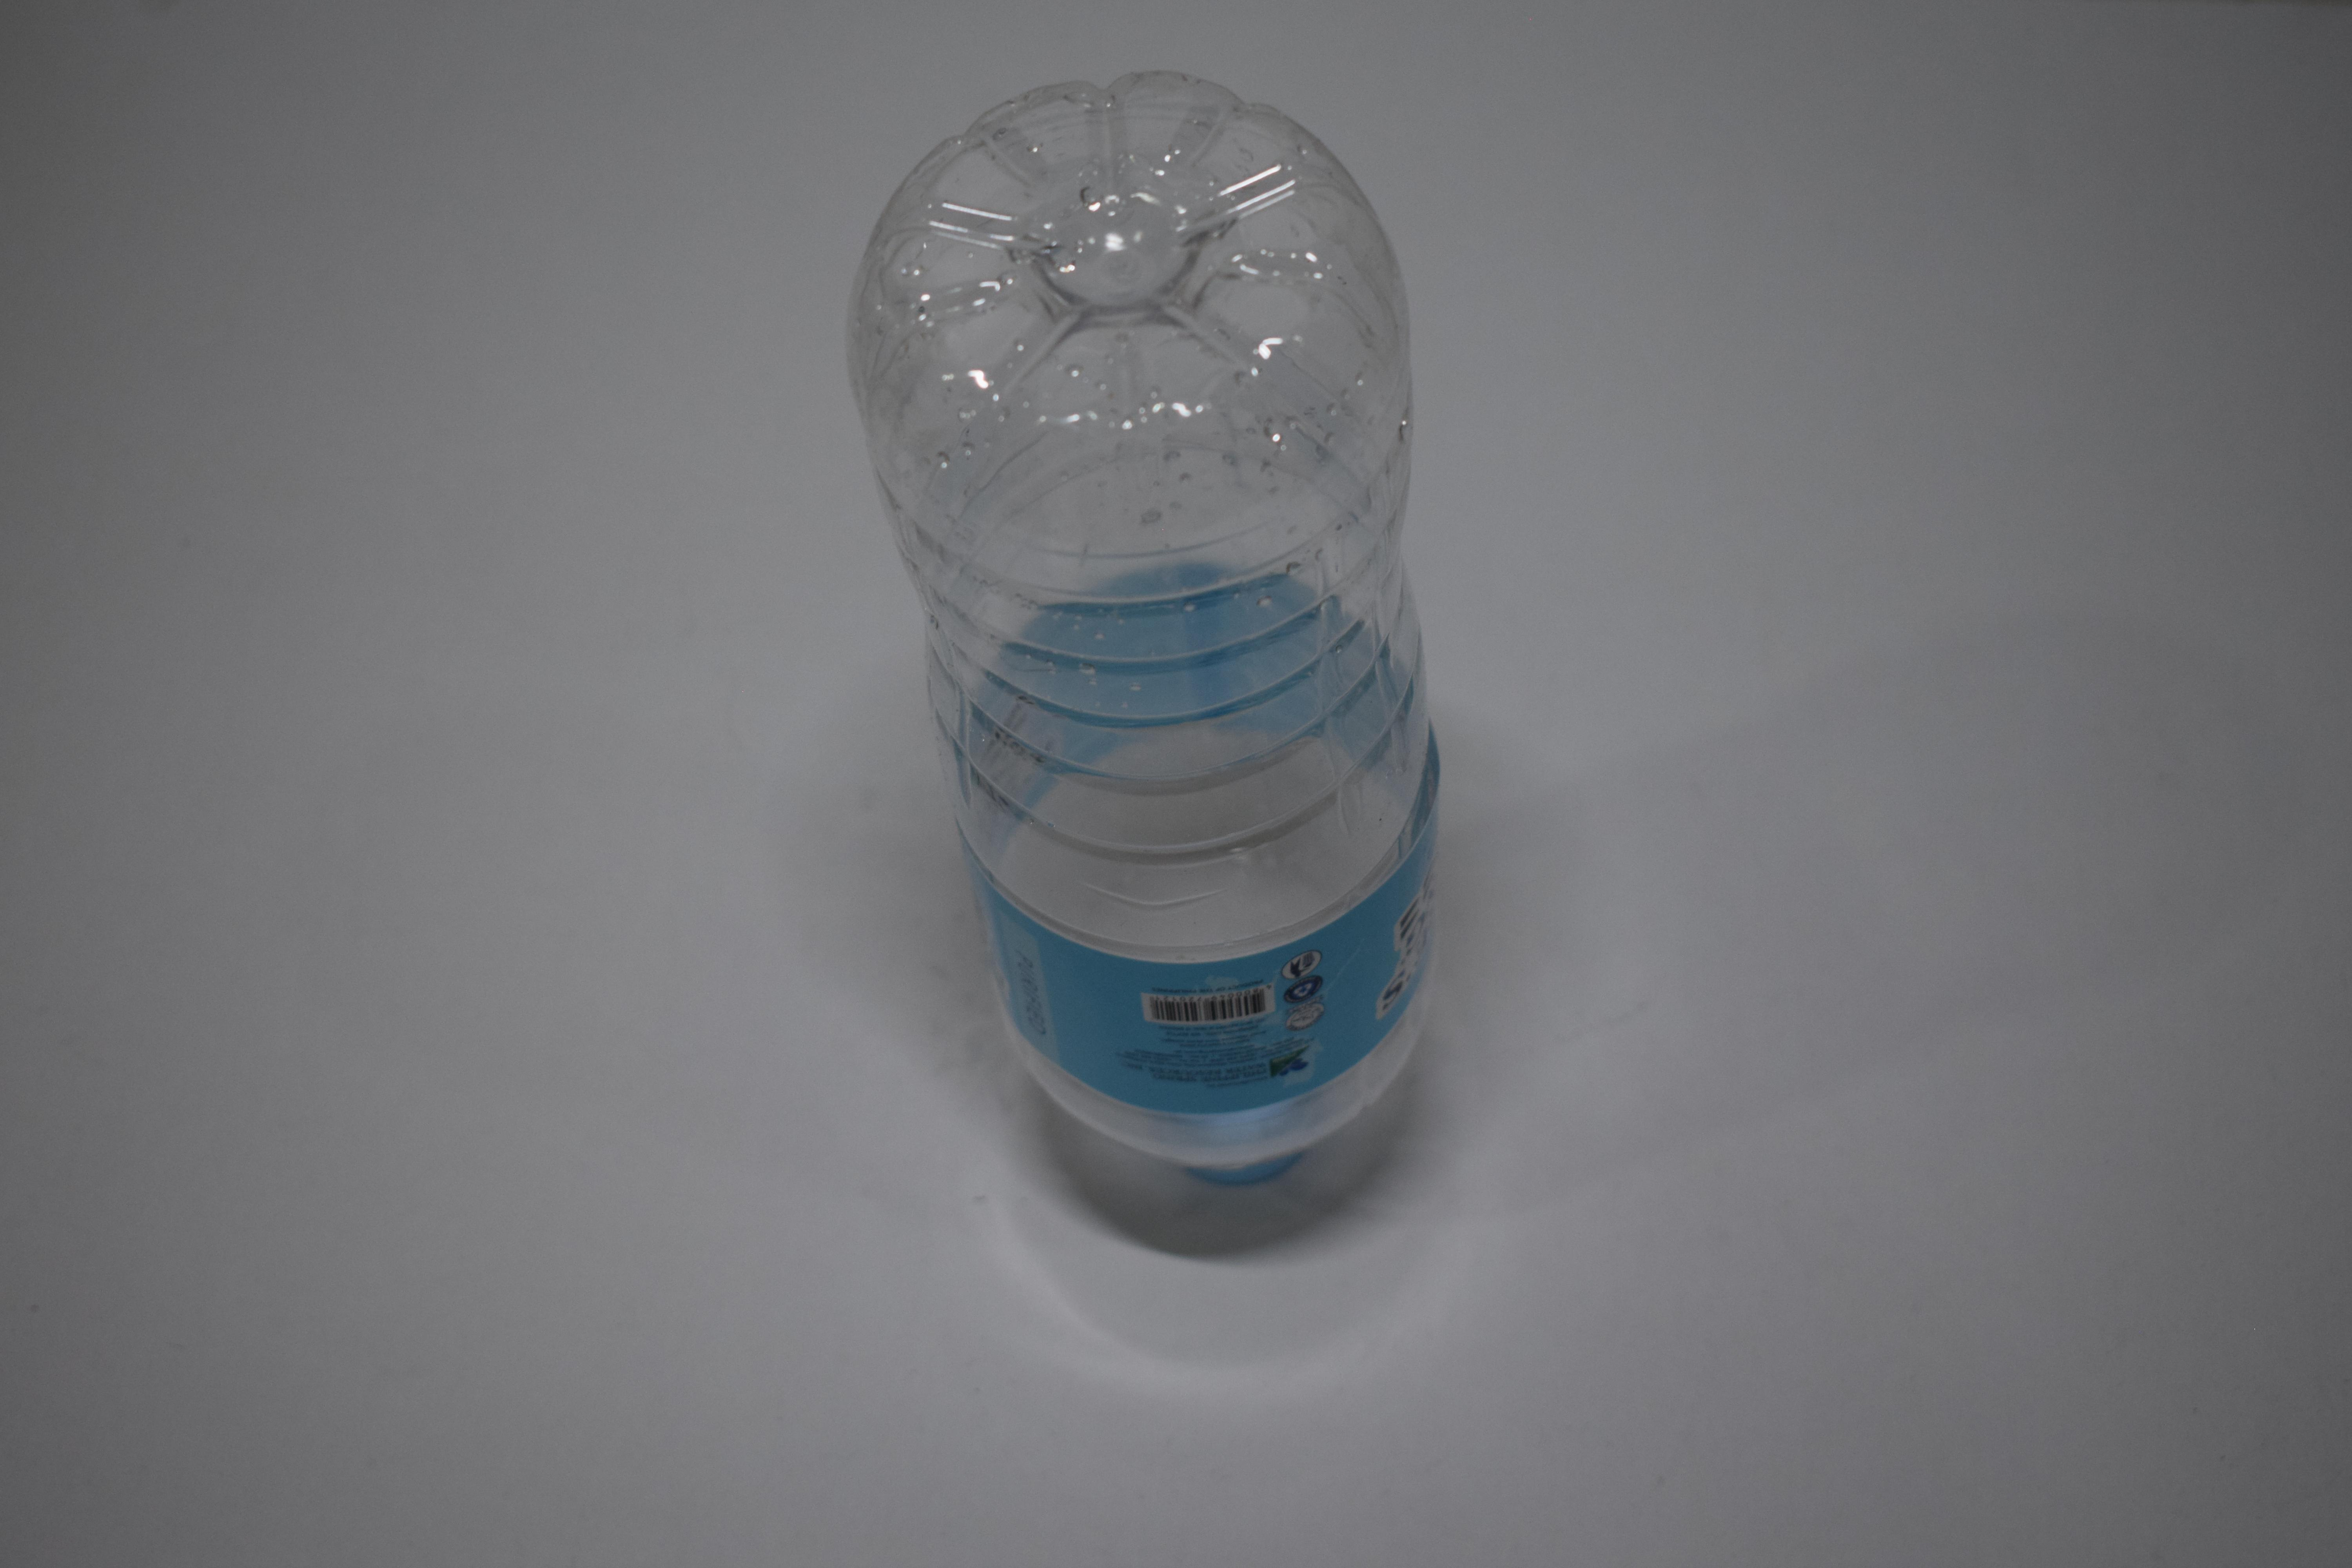bottle: (886, 59, 1375, 1183)
